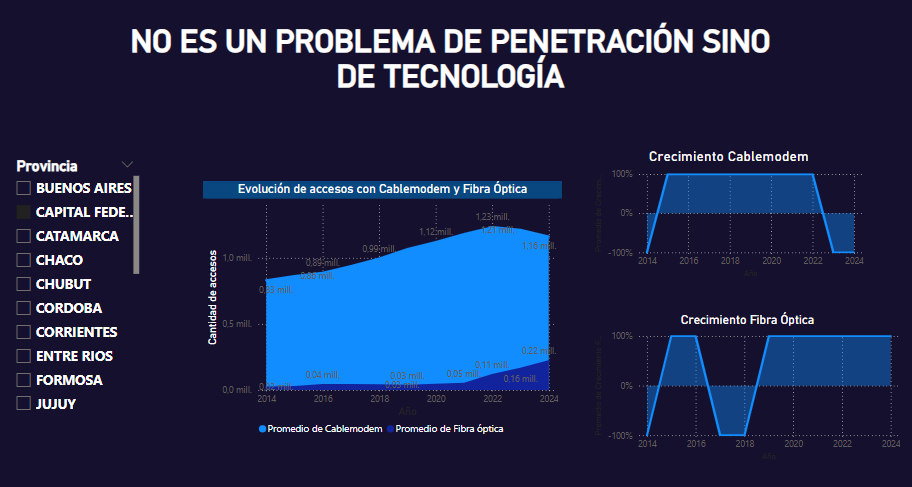

This screenshot's page, from the dashboard's own definition file:
{"tool":"powerbi","page":{"name":"CABA","canvas":[1280,720],"ordinal":2},"visuals":[{"type":"textbox","box":[190.1,36,898.6,118.1],"z":0},{"type":"textbox","box":[670.2,320.8,162.9,75.6],"z":1000},{"type":"slicer","fields":{"Values":["Cablemodem (2).Provincia"]},"box":[28.8,221.8,187.2,362.9],"z":2000},{"type":"lineChart","title":"Evolución de accesos con Cablemodem y Fibra Óptica","fields":{"Category":["Cablemodem (2).fecha.Variación.Jerarquía de fechas.Año","Cablemodem (2).fecha.Variación.Jerarquía de fechas.Trimestre","Cablemodem (2).fecha.Variación.Jerarquía de fechas.Mes","Cablemodem (2).fecha.Variación.Jerarquía de fechas.Día"],"Y":["Avg(Cablemodem (2).Cablemodem)","Avg(Cablemodem (2).Fibra óptica)"]},"box":[298.1,259.2,493.9,360],"z":3000},{"type":"hundredPercentStackedAreaChart","title":"Crecimiento Cablemodem","fields":{"Category":["Cablemodem (2).fecha.Variación.Jerarquía de fechas.Año","Cablemodem (2).fecha.Variación.Jerarquía de fechas.Trimestre","Cablemodem (2).fecha.Variación.Jerarquía de fechas.Mes","Cablemodem (2).fecha.Variación.Jerarquía de fechas.Día"],"Y":["Avg(Cablemodem (2).Crecimiento Cablemodem)"]},"box":[832.3,213.1,380.2,182.9],"z":4000},{"type":"hundredPercentStackedAreaChart","title":"Crecimiento Fibra Óptica","fields":{"Category":["Cablemodem (2).fecha.Variación.Jerarquía de fechas.Año","Cablemodem (2).fecha.Variación.Jerarquía de fechas.Trimestre","Cablemodem (2).fecha.Variación.Jerarquía de fechas.Mes","Cablemodem (2).fecha.Variación.Jerarquía de fechas.Día"],"Y":["Avg(Cablemodem (2).Crecimiento Fibra Optica)"]},"box":[832.3,439.2,430.6,208.8],"z":5000}]}

Visuals, with their boxes on the page's 1280x720 design canvas (x1, y1, x2, y2). These are canvas units, not pixel positions in the 912x487 screenshot, which may show the page scaled, cropped or inside an application window:
textbox: <region>190, 36, 1089, 154</region>
textbox: <region>670, 321, 833, 396</region>
slicer - Cablemodem (2).Provincia: <region>29, 222, 216, 585</region>
"Evolución de accesos con Cablemodem y Fibra Óptica" lineChart: <region>298, 259, 792, 619</region>
"Crecimiento Cablemodem" hundredPercentStackedAreaChart: <region>832, 213, 1212, 396</region>
"Crecimiento Fibra Óptica" hundredPercentStackedAreaChart: <region>832, 439, 1263, 648</region>
